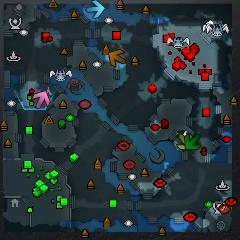x1: (32, 91, 50, 109)
x2: (177, 134, 192, 151)
x3: (86, 0, 105, 18)
x4: (185, 134, 201, 150)
x5: (109, 50, 126, 66)
